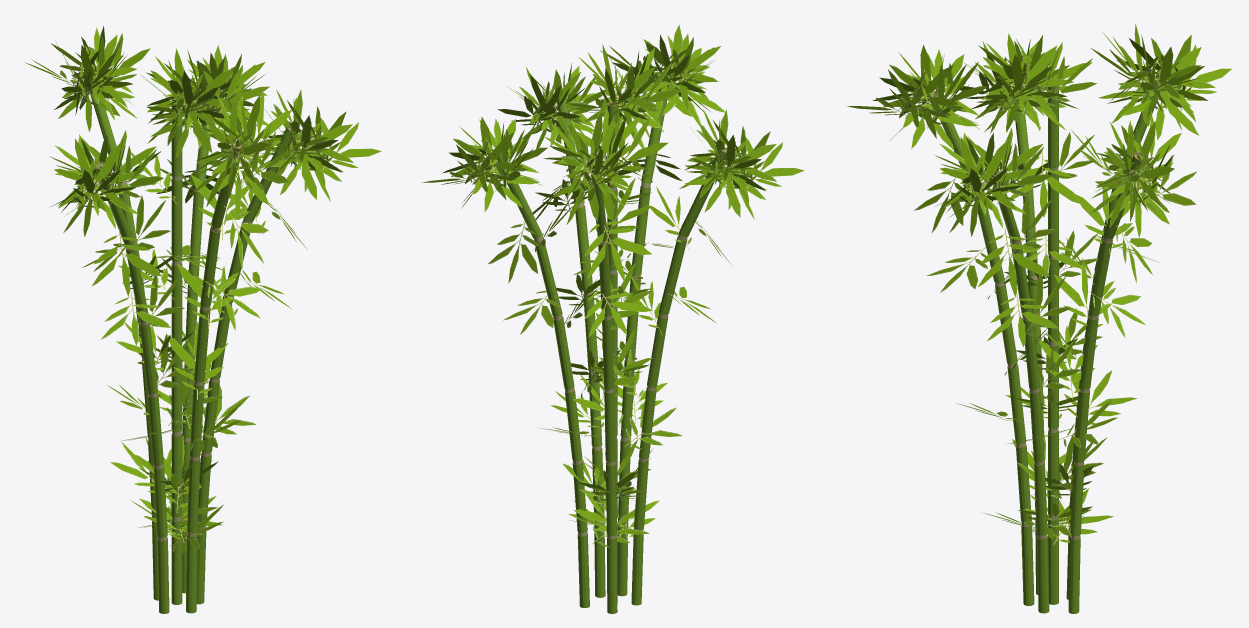
Rendered from Bambu.fbx.
The picture shows the model from 3 angles, left to right: view 1: azimuth 30°, elevation 25°; view 2: azimuth 150°, elevation 25°; view 3: azimuth 270°, elevation 25°; orthographic projection. The views are drawn at different scales.
Parts seen in each view (by area): view 1: Daun bambu.004, Daun bambu.007, Daun bambu.002, Daun bambu.003, Daun bambu.005, Cylinder.003, Cylinder.002, Cylinder.006, Cylinder.004, Daun bambu.006, Cylinder.007, Cylinder.005; view 2: Daun bambu.005, Daun bambu.007, Daun bambu.006, Daun bambu.002, Daun bambu.003, Daun bambu.004, Cylinder.006, Cylinder.007, Cylinder.005, Cylinder.002, Cylinder.004, Cylinder.003; view 3: Daun bambu.003, Daun bambu.006, Daun bambu.002, Daun bambu.005, Daun bambu.004, Cylinder.002, Cylinder.007, Cylinder.003, Cylinder.004, Daun bambu.007, Cylinder.006, Cylinder.005.
Boxes of the visible parts, left/top/right/bottom form: Daun bambu.004: left=163, top=90, right=294, bottom=553; Daun bambu.007: left=49, top=130, right=202, bottom=527; Daun bambu.002: left=110, top=48, right=269, bottom=534; Daun bambu.003: left=133, top=89, right=381, bottom=539; Daun bambu.005: left=25, top=26, right=218, bottom=534; Cylinder.003: left=171, top=97, right=182, bottom=604; Cylinder.002: left=186, top=140, right=242, bottom=613; Cylinder.006: left=94, top=161, right=169, bottom=613; Cylinder.004: left=196, top=126, right=295, bottom=604; Daun bambu.006: left=139, top=45, right=268, bottom=541; Cylinder.007: left=182, top=77, right=214, bottom=593; Cylinder.005: left=84, top=73, right=158, bottom=600; Daun bambu.005: left=543, top=107, right=668, bottom=542; Daun bambu.007: left=562, top=109, right=804, bottom=547; Daun bambu.006: left=422, top=117, right=653, bottom=528; Daun bambu.002: left=568, top=44, right=681, bottom=537; Daun bambu.003: left=497, top=63, right=636, bottom=536; Daun bambu.004: left=584, top=24, right=725, bottom=540; Cylinder.006: left=631, top=147, right=726, bottom=605; Cylinder.007: left=493, top=152, right=589, bottom=607; Cylinder.005: left=589, top=157, right=617, bottom=613; Cylinder.002: left=617, top=74, right=672, bottom=596; Cylinder.004: left=557, top=96, right=605, bottom=597; Cylinder.003: left=607, top=102, right=617, bottom=603; Daun bambu.003: left=935, top=128, right=1095, bottom=532; Daun bambu.006: left=1012, top=116, right=1196, bottom=540; Daun bambu.002: left=971, top=33, right=1107, bottom=524; Daun bambu.005: left=1012, top=24, right=1231, bottom=544; Daun bambu.004: left=847, top=44, right=1074, bottom=530; Cylinder.002: left=930, top=91, right=1034, bottom=605; Cylinder.007: left=1068, top=152, right=1143, bottom=613; Cylinder.003: left=1048, top=86, right=1058, bottom=604; Cylinder.004: left=987, top=156, right=1049, bottom=613; Daun bambu.007: left=960, top=39, right=1093, bottom=531; Cylinder.006: left=1012, top=87, right=1044, bottom=594; Cylinder.005: left=1066, top=73, right=1160, bottom=599.
Bounding box in the file's own units: 290 × 486 × 304.
